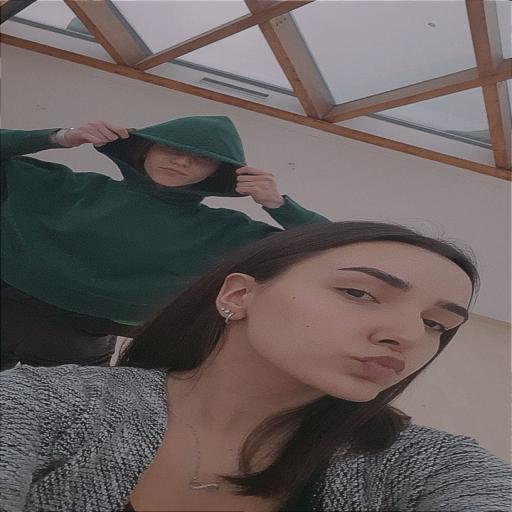masa: (152, 136, 219, 186)
